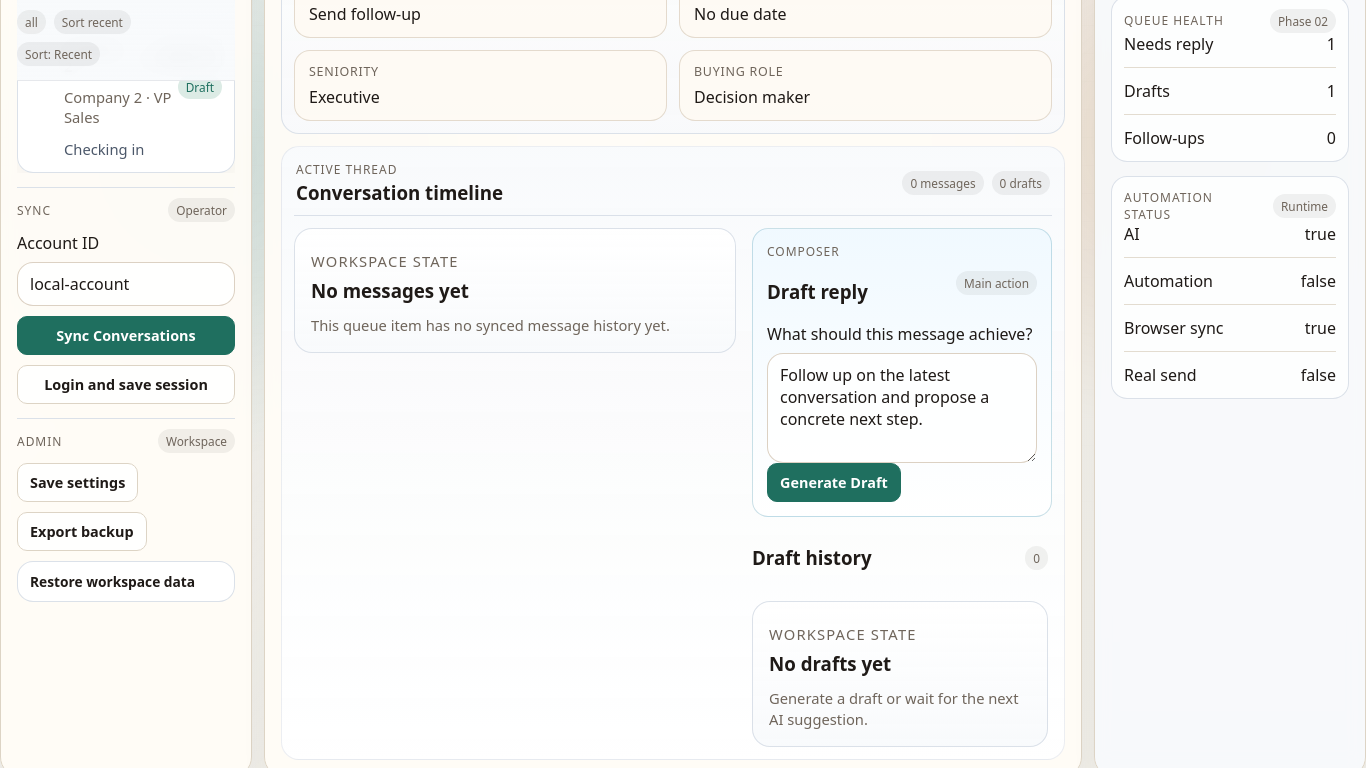
InboxWorkspace bulk draft flow › bootstraps a LinkedIn session from the inbox action
(page scrolled)
What coordinates should you click on to do the following:
click the button "Login and save session"
I would click on:
 (126, 385)
Its box is x1=17 y1=365 x2=235 y2=404.
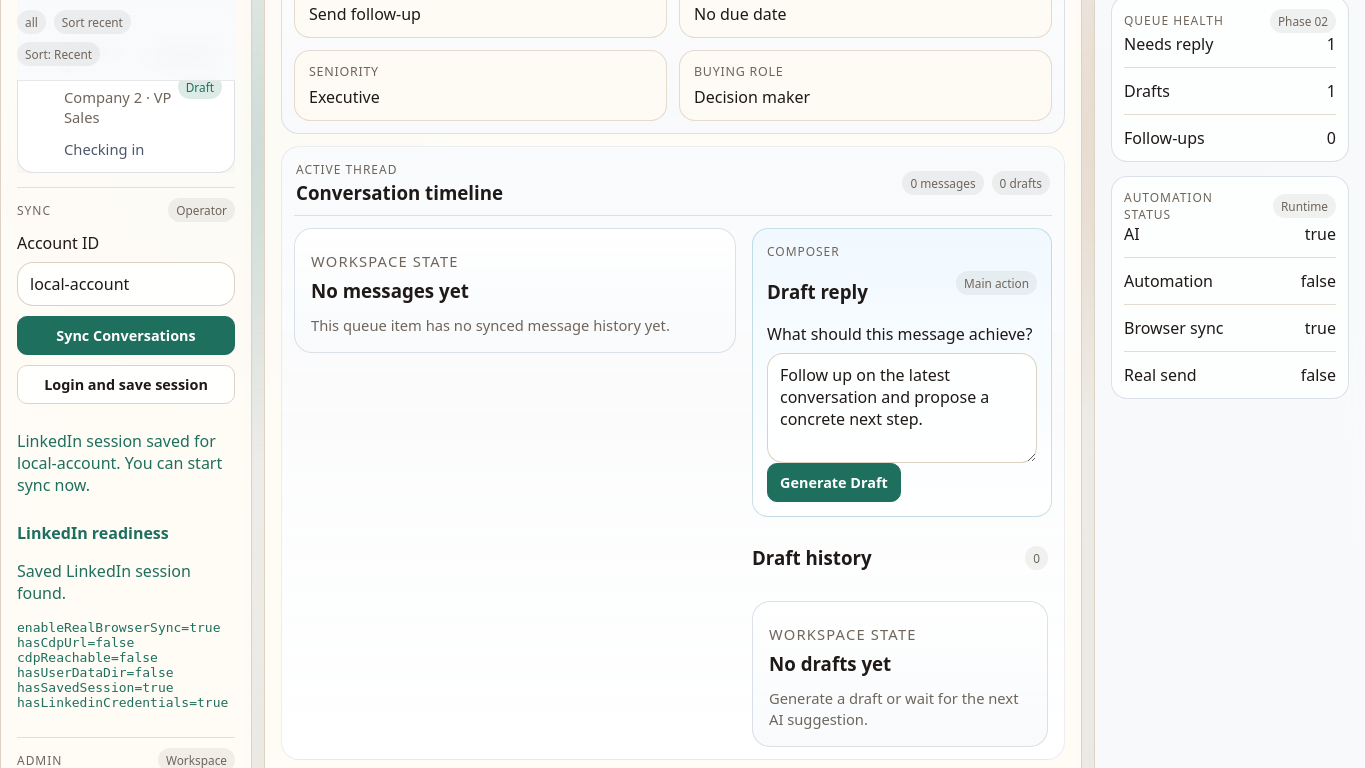
Expected: the text "LinkedIn session saved for local-account. You can start sync now." is shown, x1=17 y1=430 x2=235 y2=496
